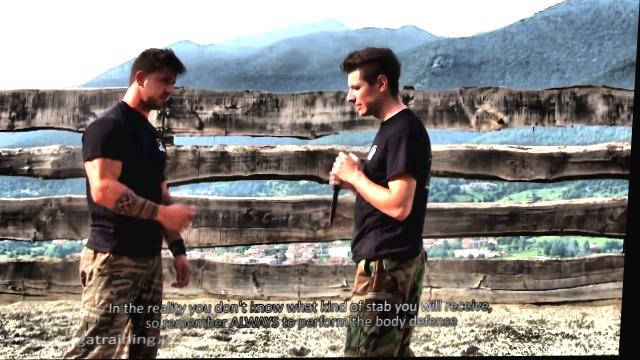knife: (327, 150, 355, 230)
